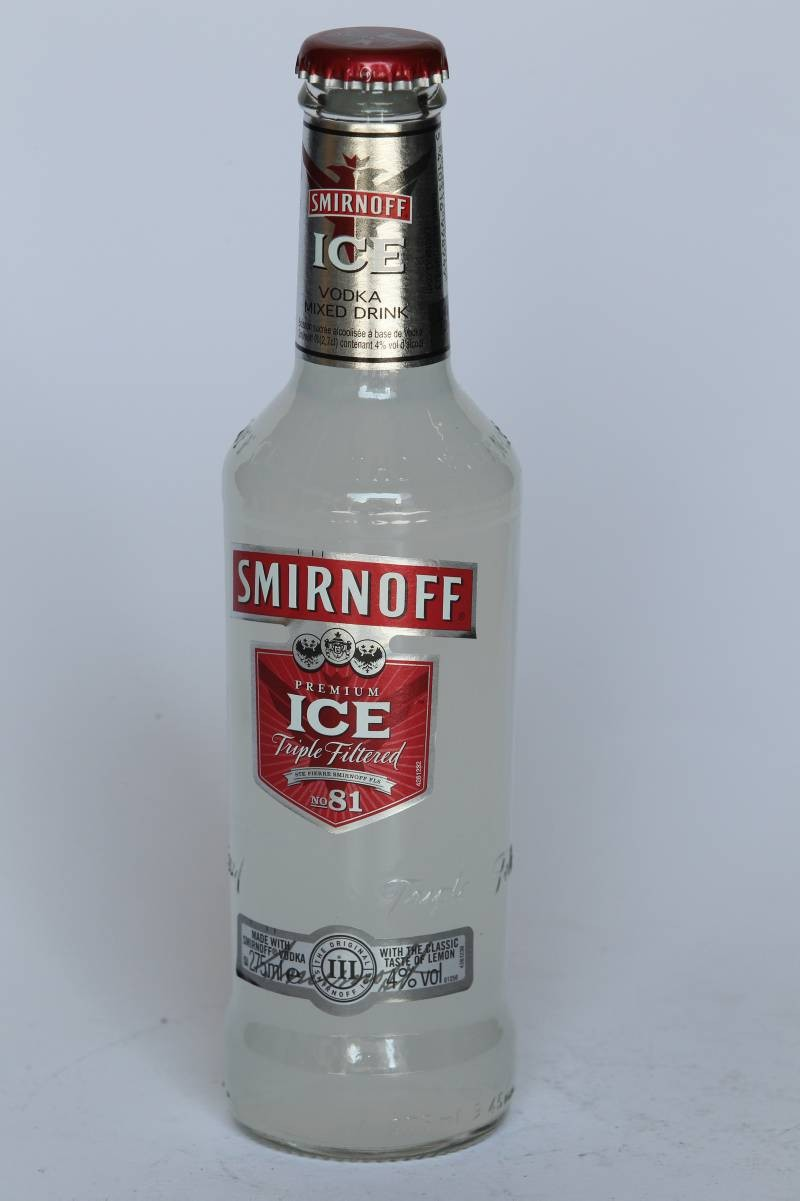Smirnoff: (184, 14, 568, 1184)
